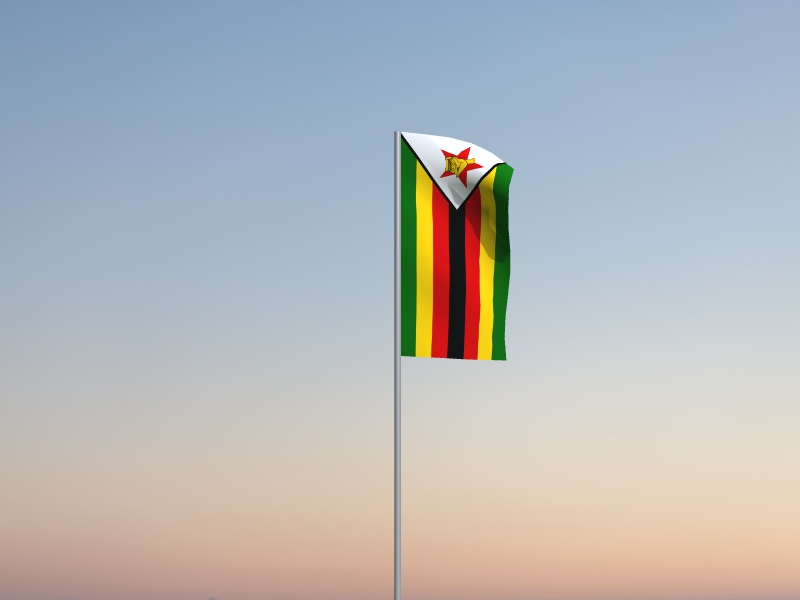zw: (400, 132, 516, 365)
